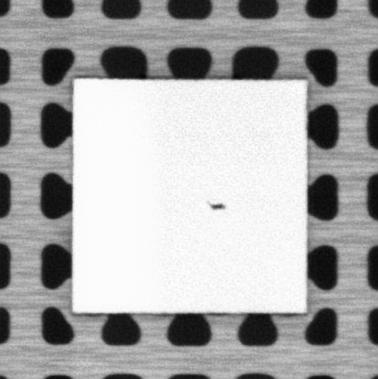DIE_INK: (205, 199, 226, 211)
